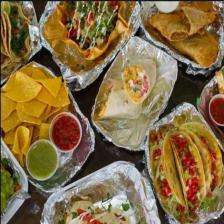breakfast burrito: (94, 60, 160, 124)
chicken quesadilla: (148, 2, 218, 64), (60, 190, 134, 224), (211, 67, 224, 93)
nachos: (1, 70, 64, 146)
tacos: (149, 129, 223, 212)
